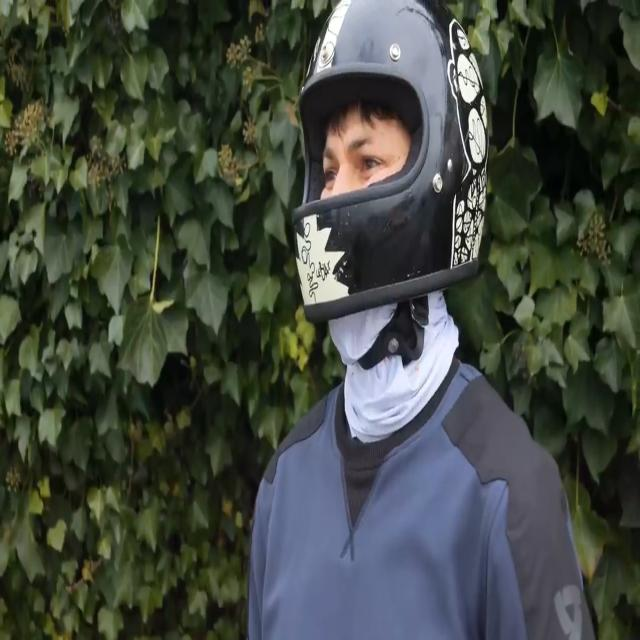Helmet_Wearer: (282, 3, 486, 316)
Person: (234, 0, 592, 633)
